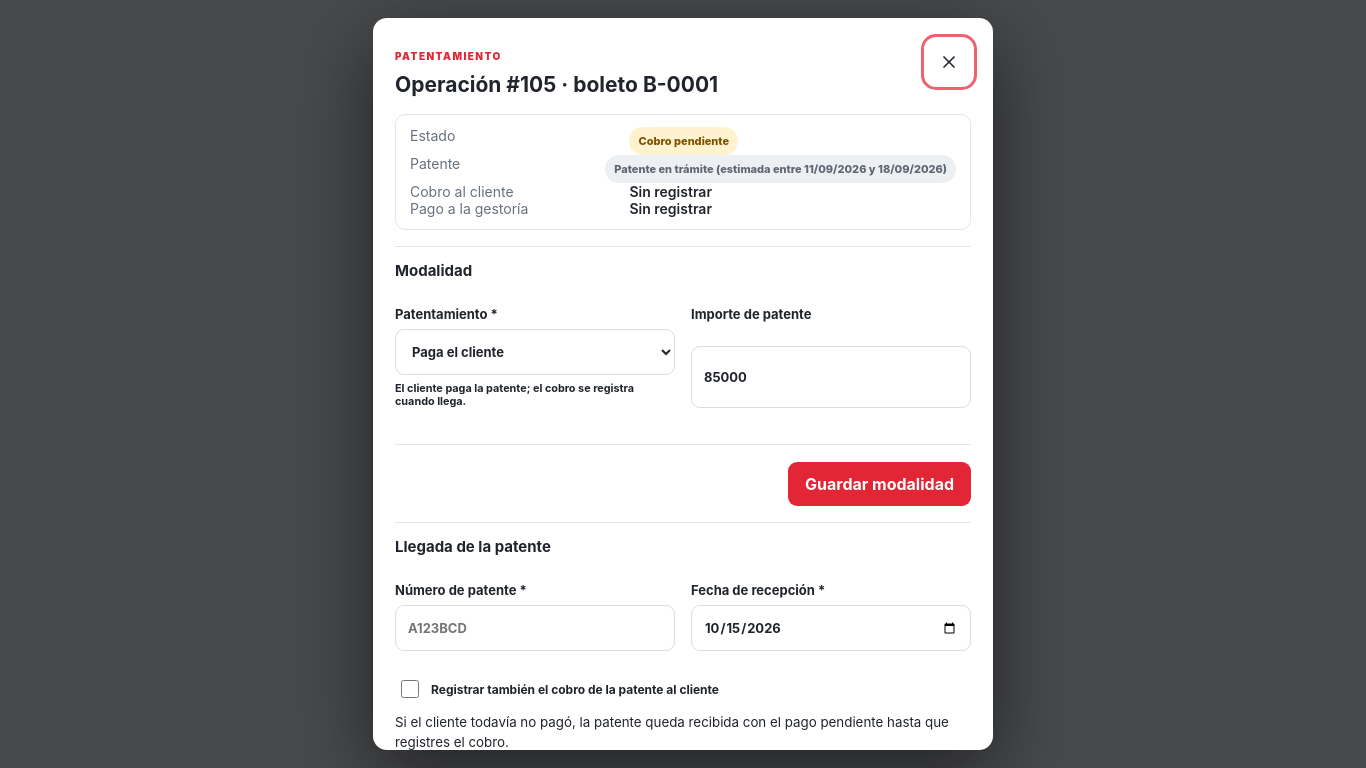
Test: Gestión de patentamiento › explica el bloqueo cuando ya hay un cobro al cliente
Select "Bonificada" in the dropdown labelled "Patentamiento *" at [535, 352], box [395,329,675,375]
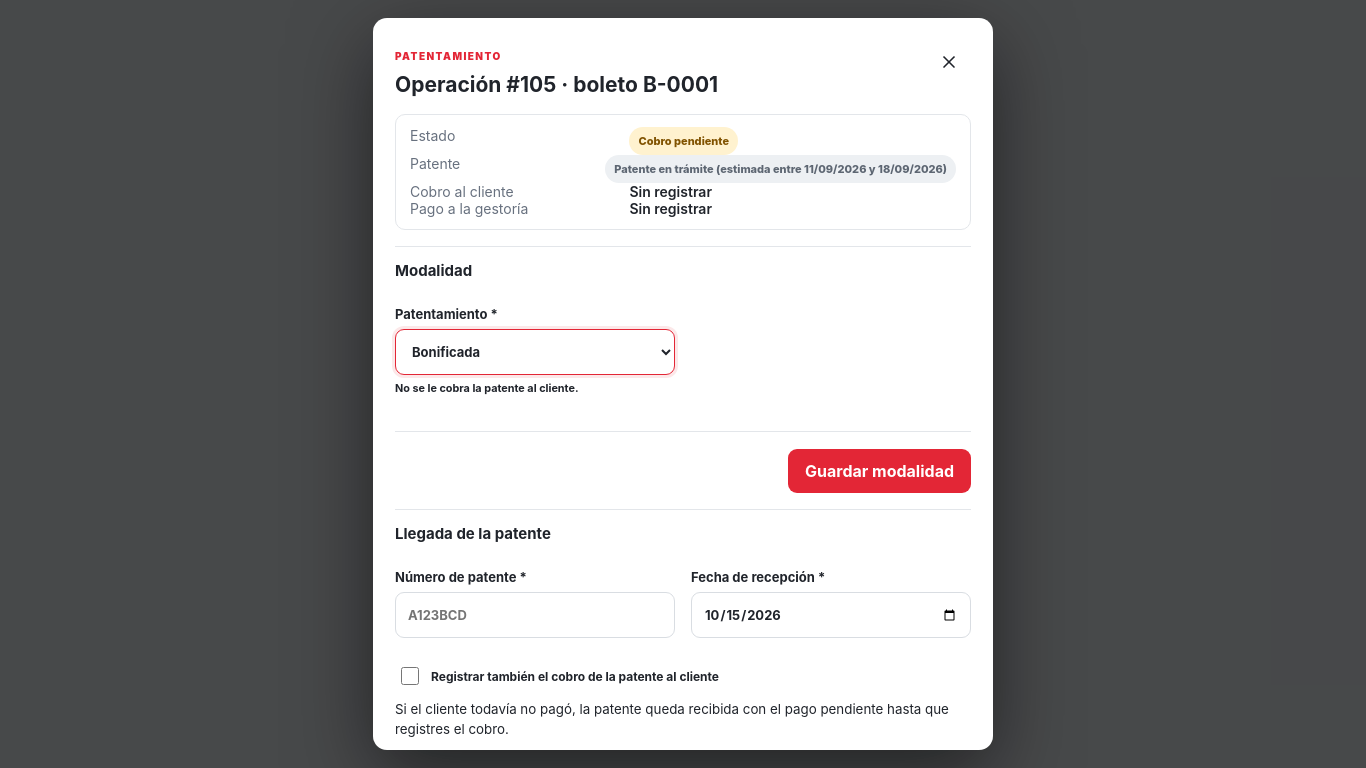
Click the button "Guardar modalidad".
click(880, 471)  # box [788,449,971,493]
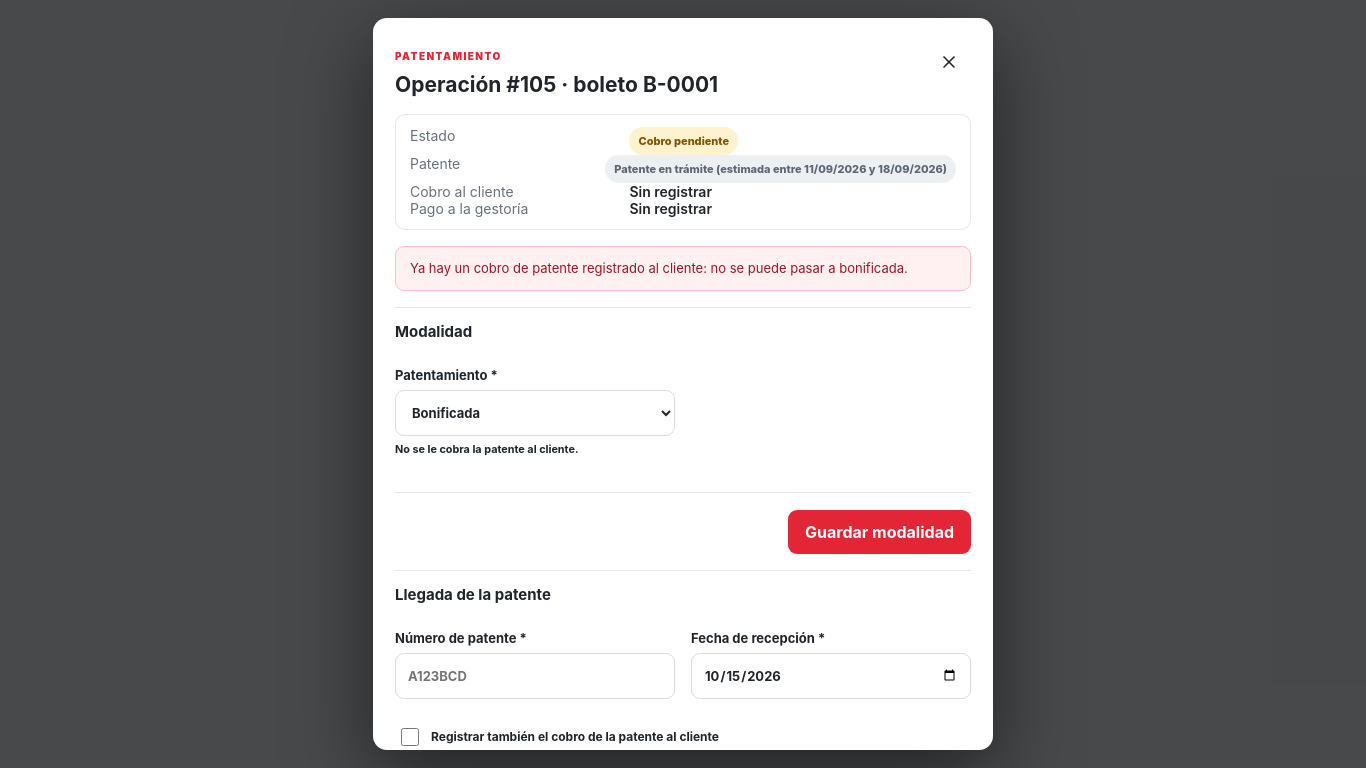
Check: the text "Ya hay un cobro de patente registrado" is shown, box [410,260,908,276]
